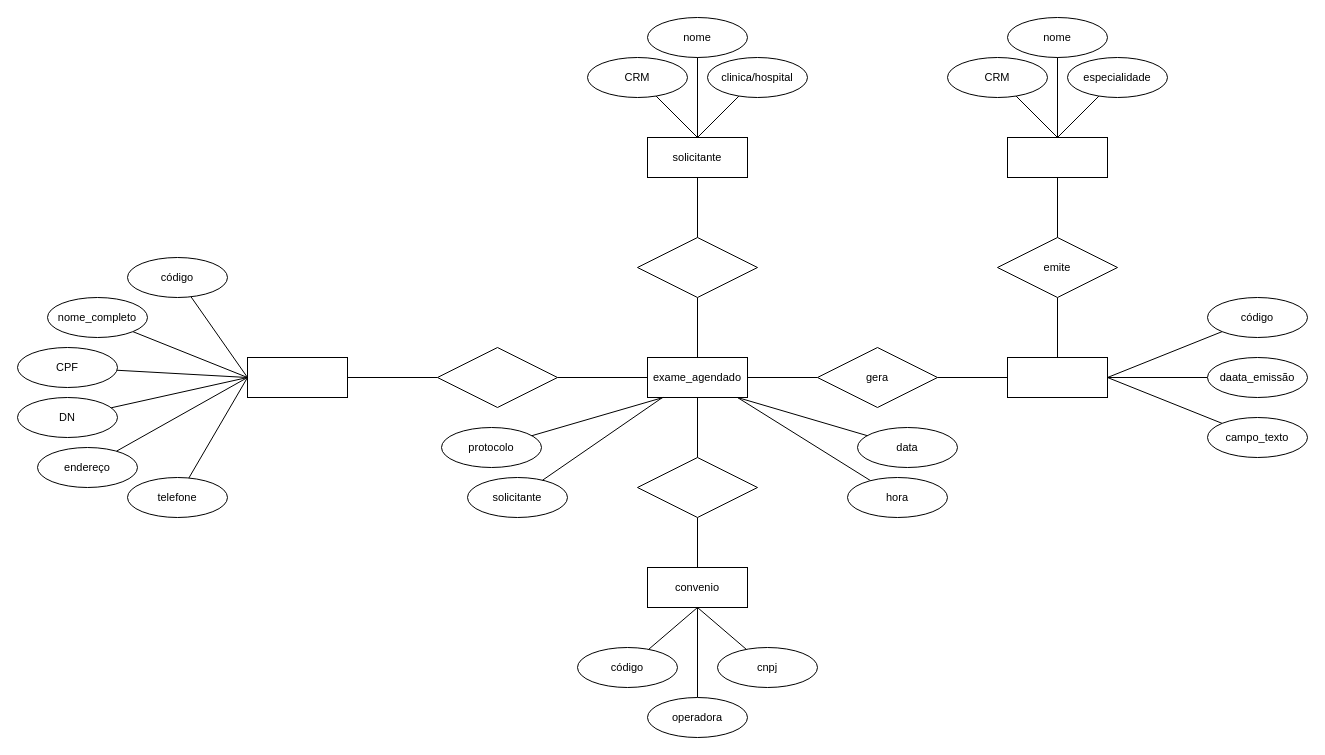
The diagram is 1325 pixels wide and 755 high, and some of its shapes have lost their labels. Each missing label, with the centre of its shape:
"laudo" goes at pixel 1057 377.
"paciente" goes at pixel 297 377.
"radiologista" goes at pixel 1057 157.
"realiza" goes at pixel 497 377.
"solicita" goes at pixel 697 267.
"utiliza" goes at pixel 697 487.
